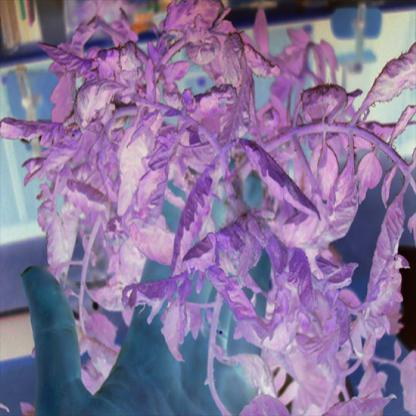Tomato leaf yellow virus: (234, 133, 318, 218), (172, 152, 223, 273), (206, 266, 262, 324), (134, 143, 170, 231), (354, 150, 386, 204), (242, 43, 282, 80)
